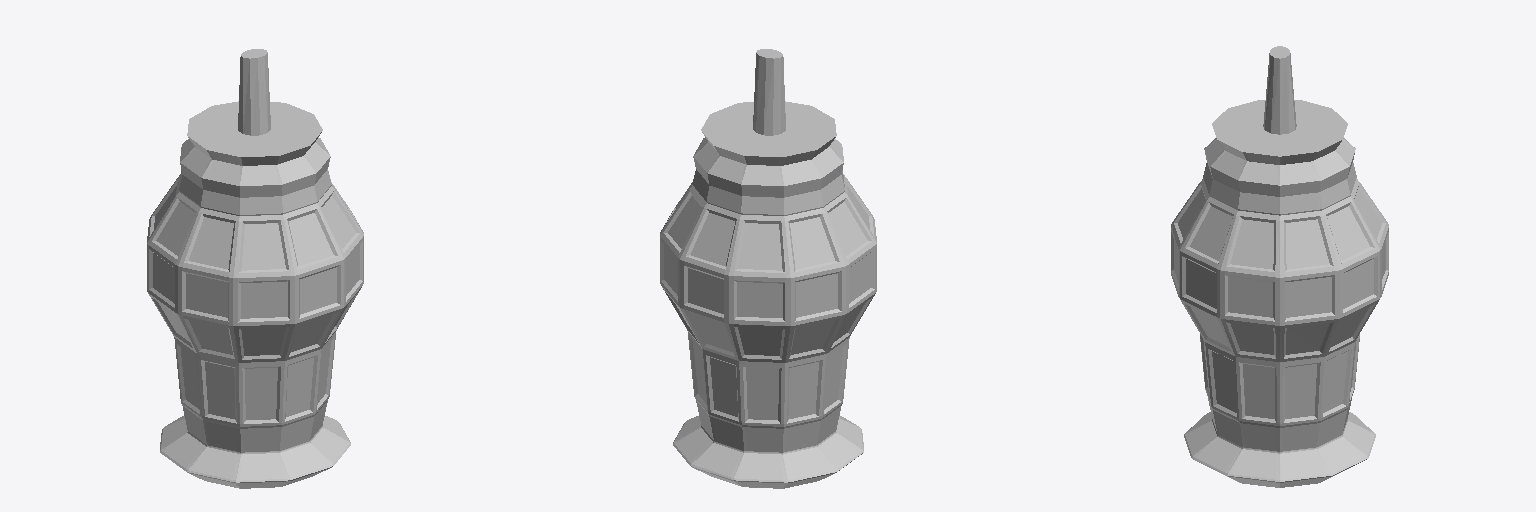
Rendered from lantern.obj.
The picture shows the model from 3 angles: view 1: azimuth 30°, elevation 25°; view 2: azimuth 150°, elevation 25°; view 3: azimuth 270°, elevation 25°; orthographic projection.
Visible parts, largest first — view 1: Cylinder001; view 2: Cylinder001; view 3: Cylinder001.
Boxes of the visible parts, <box> form: Cylinder001: <box>147,49,363,488</box>; Cylinder001: <box>660,49,876,488</box>; Cylinder001: <box>1171,46,1388,487</box>.
Size of the model in its own units: 11.42 by 23.6 by 11.52.